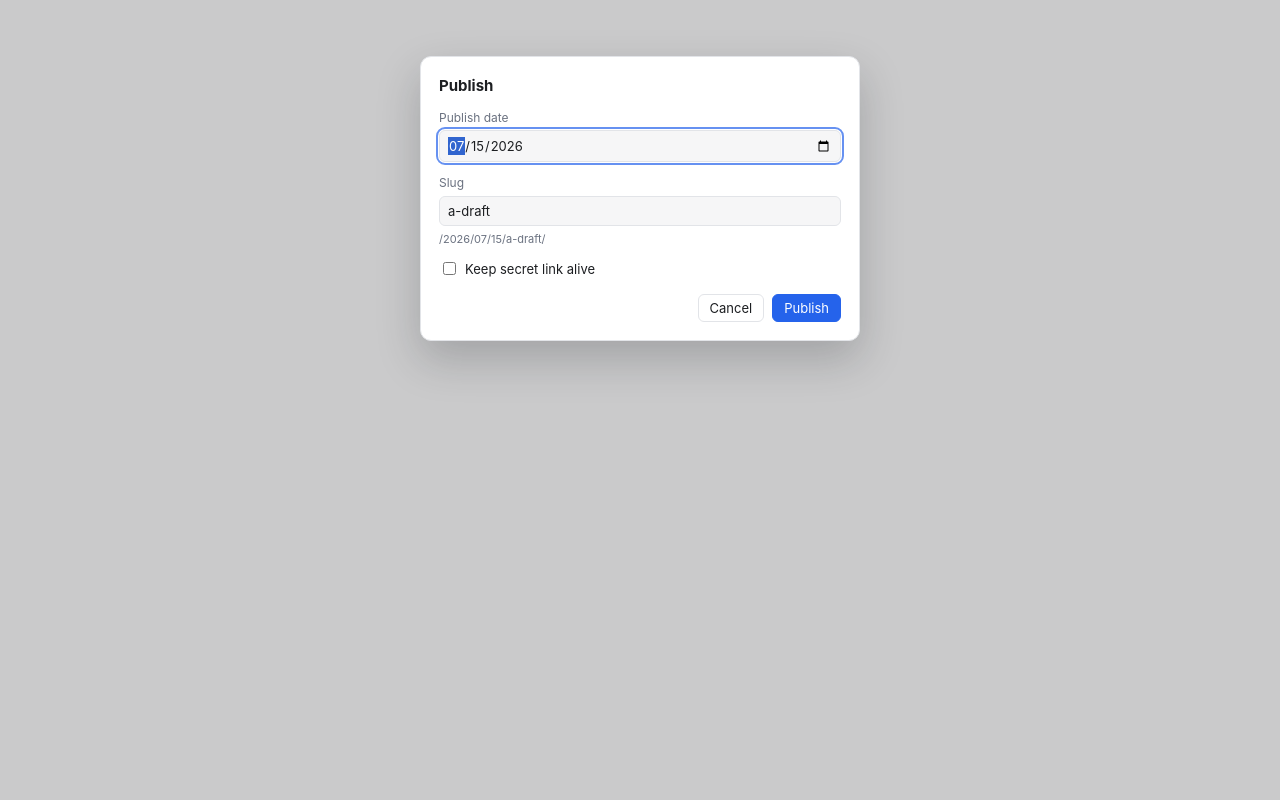
Test: PublishDialog — live URL preview › previews /private/<id>/ once 'Keep secret link alive' is checked
Step 1. Click the checkbox labelled "Keep secret link alive" → click(450, 269), box [443,262,456,276]
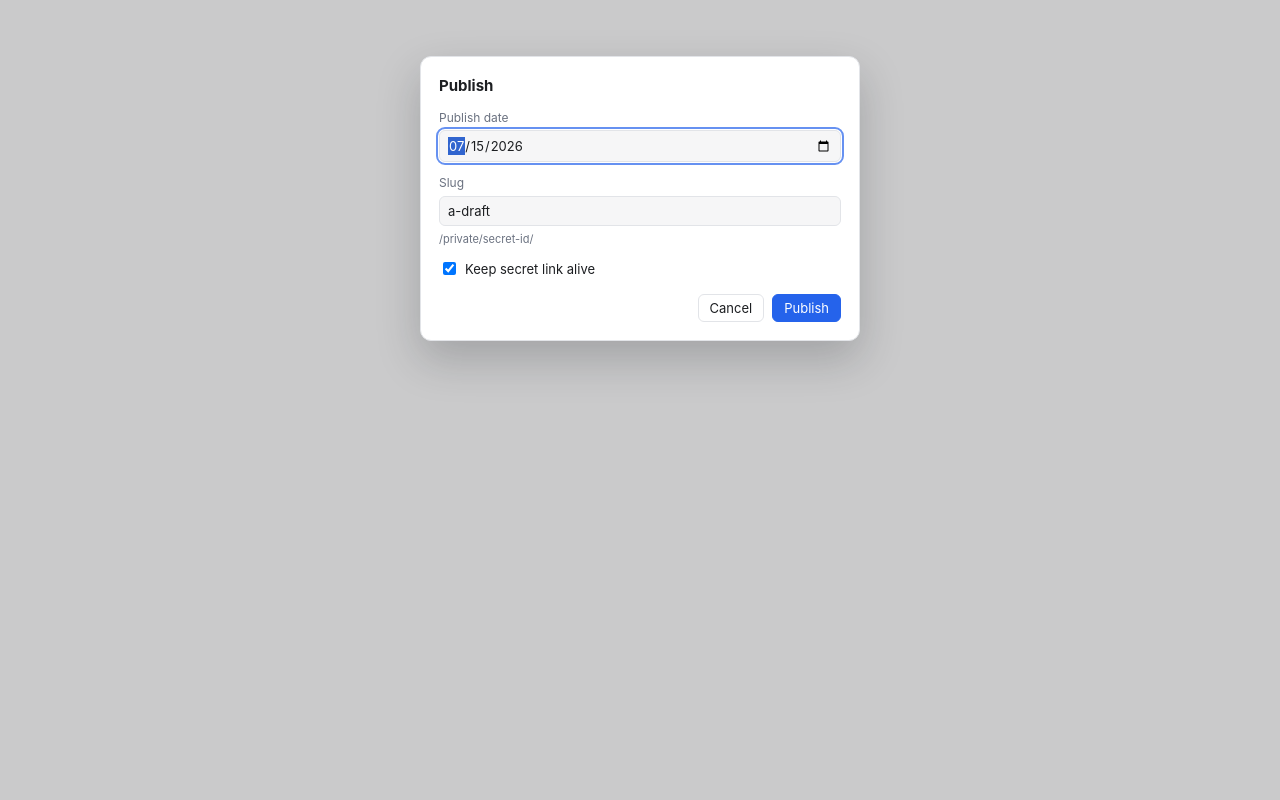
Expected: the text "/private/secret-id/" is shown, [439,232,534,246]
Expected: the text "/2026/07/15/a-draft/" is gone
